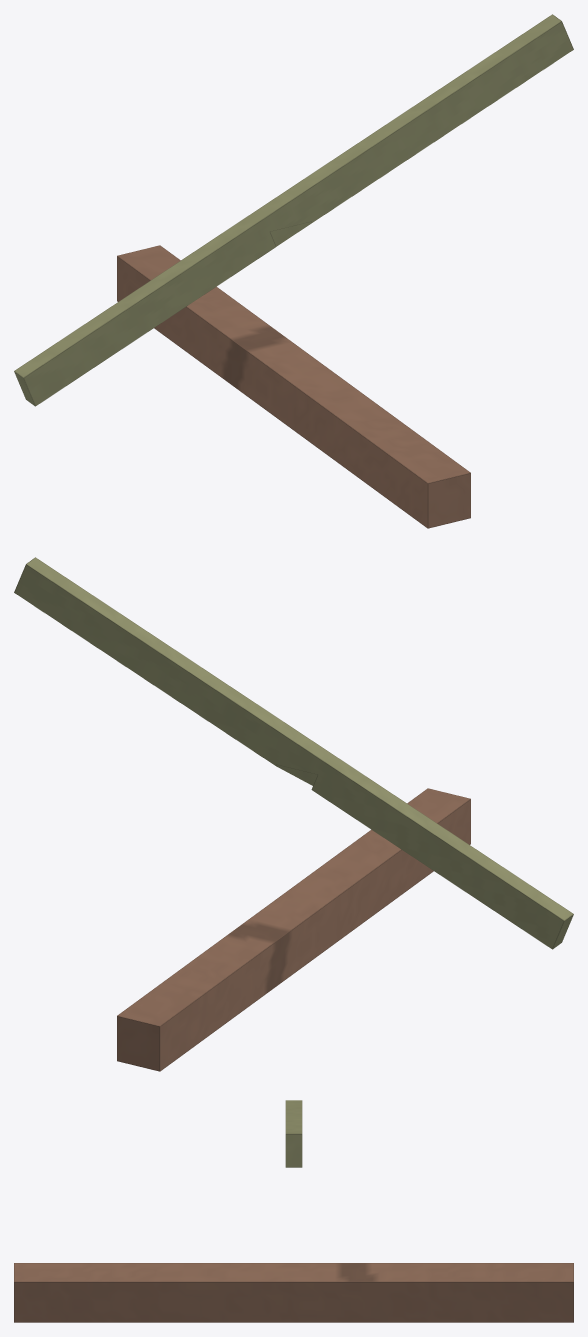
Rendered from rafter-over-plate.glb.
The picture shows the model from 3 angles, top to bottom: view 1: azimuth 30°, elevation 25°; view 2: azimuth 150°, elevation 25°; view 3: azimuth 270°, elevation 25°; orthographic projection. The views are drawn at different scales.
Parts seen in each view (by area): view 1: part-b, part-a; view 2: part-b, part-a; view 3: part-a, part-b.
Boxes of the visible parts, x1,y1,x2,y2 form: part-b: [14, 14, 573, 406]; part-a: [117, 245, 470, 528]; part-b: [14, 557, 573, 949]; part-a: [117, 788, 470, 1071]; part-a: [14, 1263, 573, 1322]; part-b: [285, 1100, 302, 1167].
Bounding box in the file's own units: 1.53 × 0.8726 × 1.5.
